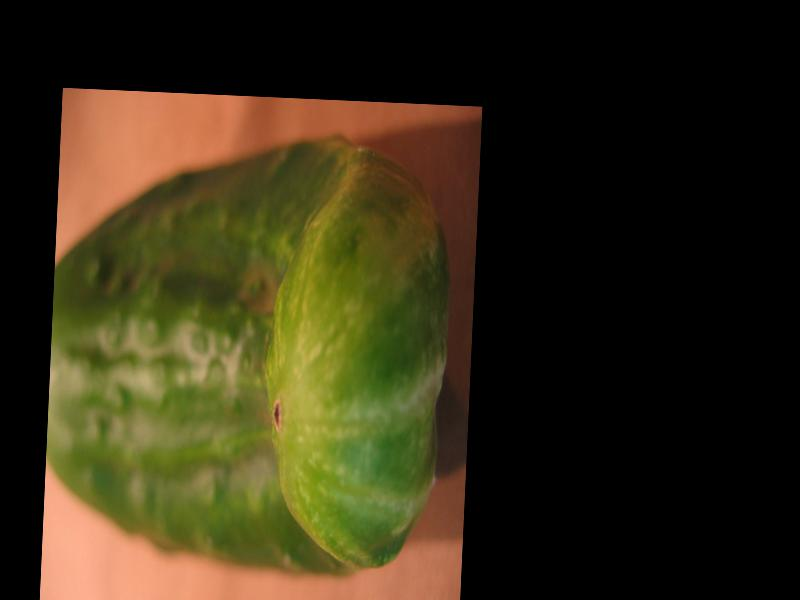Cucumber: (42, 127, 454, 583)
